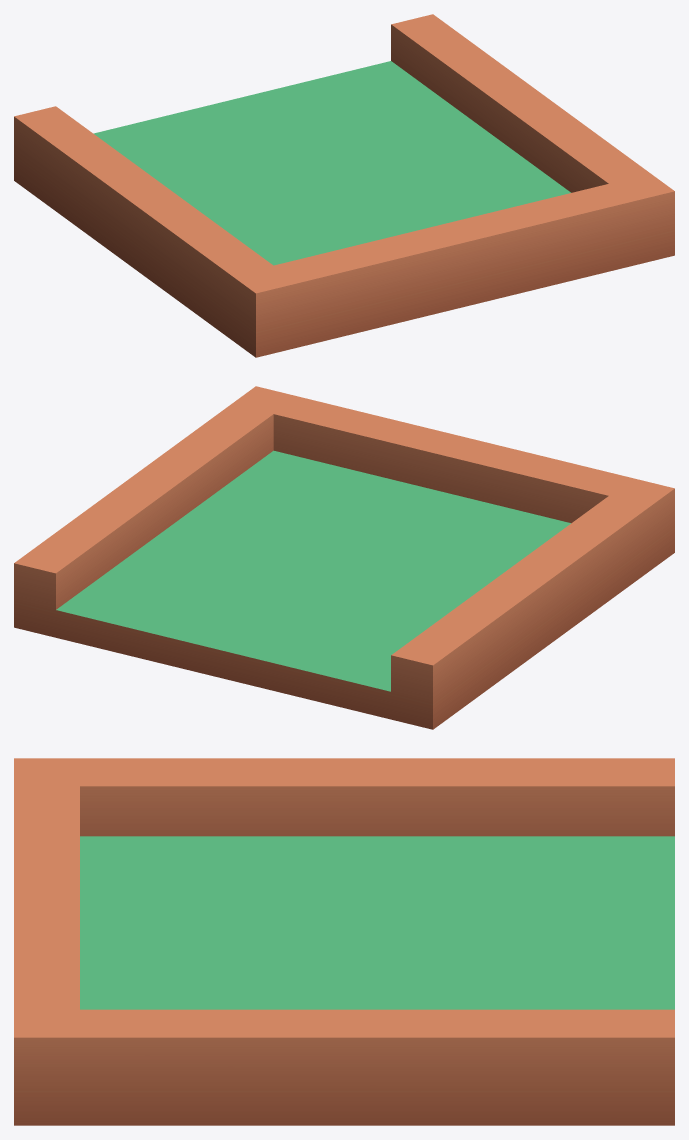
The model's file is end.glb.
3 renders of one model, top to bottom at view 1: azimuth 30°, elevation 25°; view 2: azimuth 150°, elevation 25°; view 3: azimuth 270°, elevation 25°, orthographic. The views are drawn at different scales.
Visible parts, largest first — view 1: end; view 2: end; view 3: end.
Boxes of the visible parts, bbox=[...] form: end: bbox=[14, 14, 674, 357]; end: bbox=[14, 386, 674, 729]; end: bbox=[14, 758, 674, 1125].
Size of the model in its own units: 0.9999 by 0.1467 by 0.9999.
Materials: 1 (1 with a texture image).
